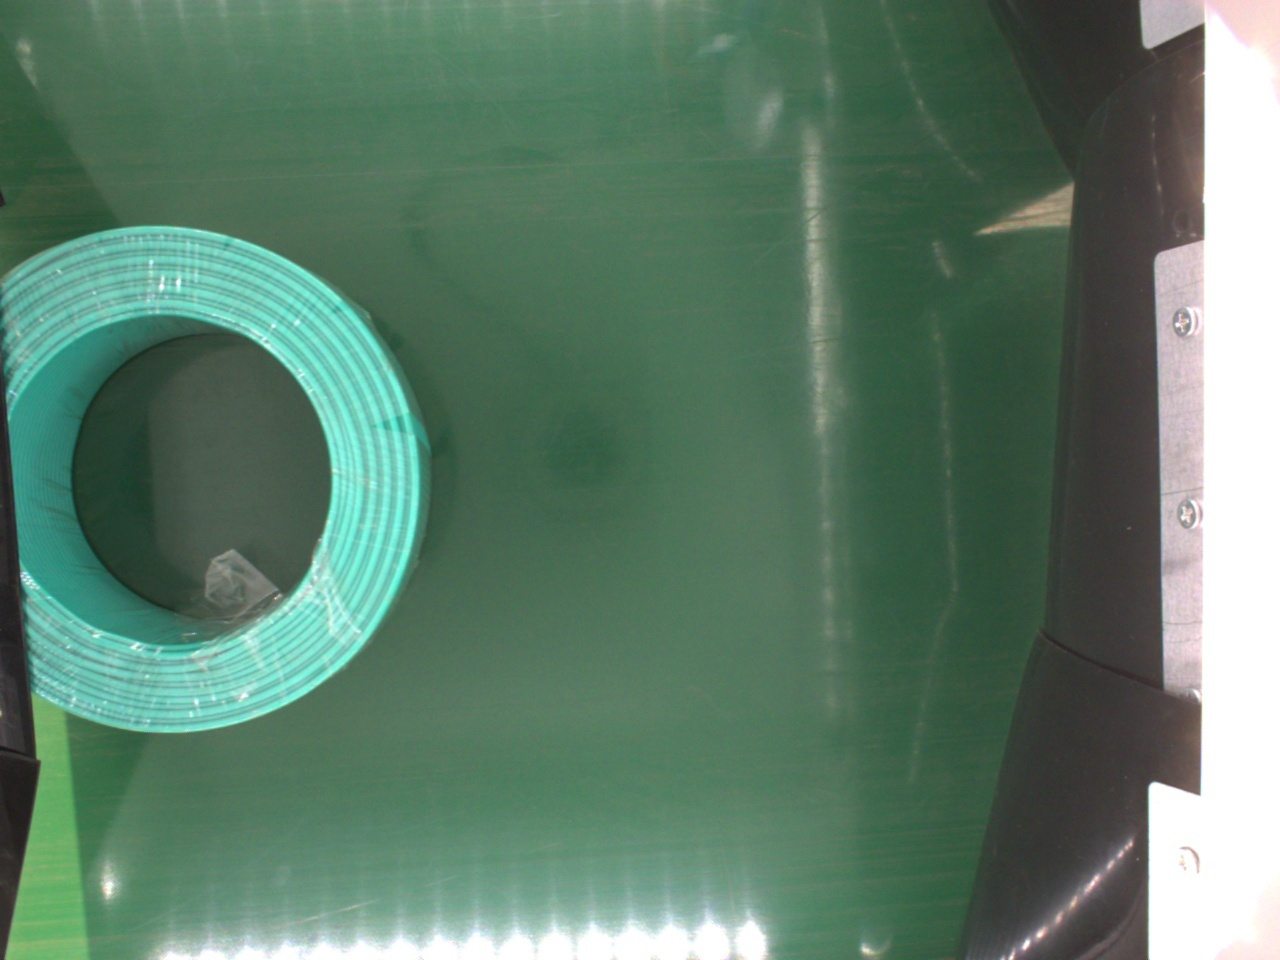green: (4, 223, 431, 739)
